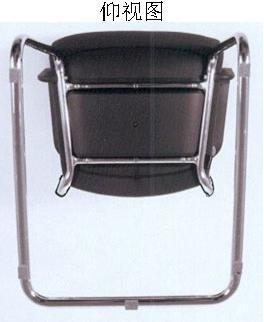obstacle: (10, 31, 249, 307)
